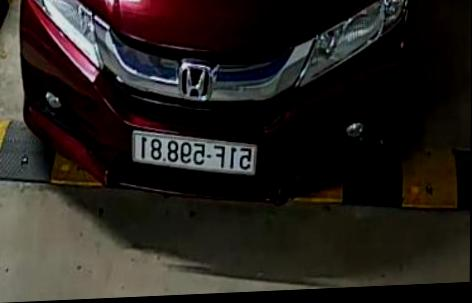License_Plate: (127, 119, 262, 180)
